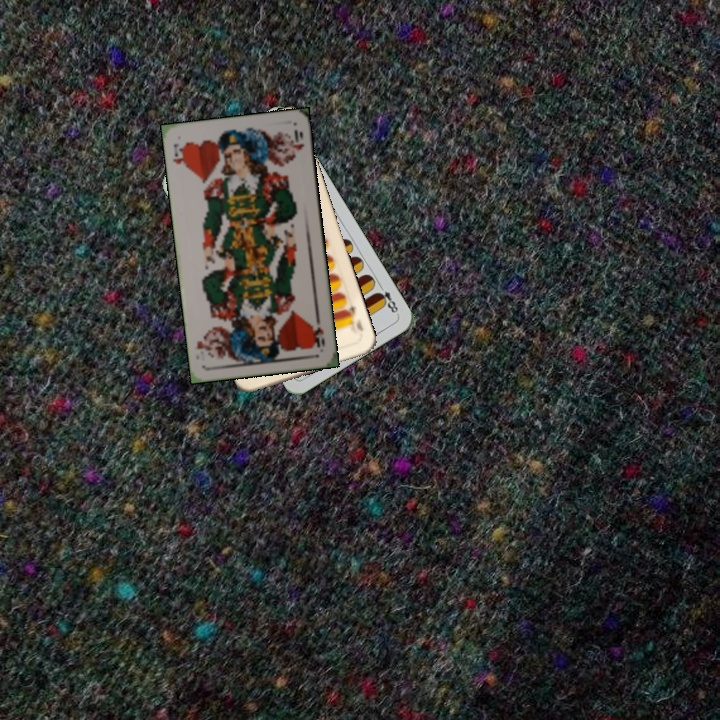E10: (341, 300, 366, 334)
E8: (373, 280, 401, 317)
HO: (309, 311, 328, 350), (169, 140, 189, 171)
